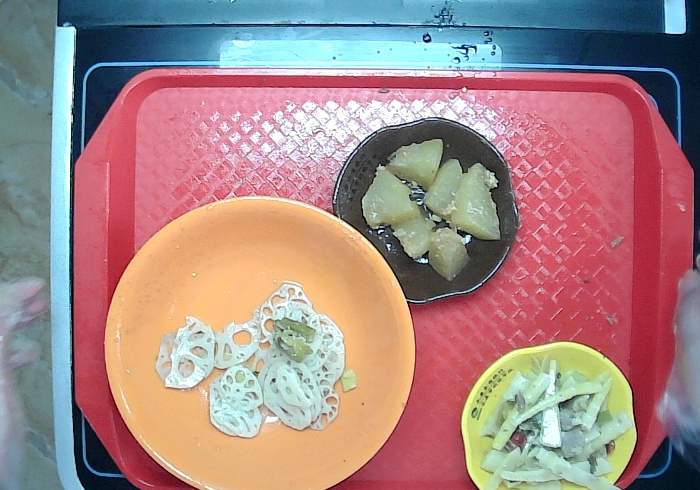YKMZ-Huang_Se_Ao_Bian_Wan: (459, 339, 640, 490)
YKMZ-Ju_Se_Tang_Wan: (102, 195, 419, 490)
YKMZ-Ka_Fei_Ao_Bian_Wan: (329, 118, 519, 306)
